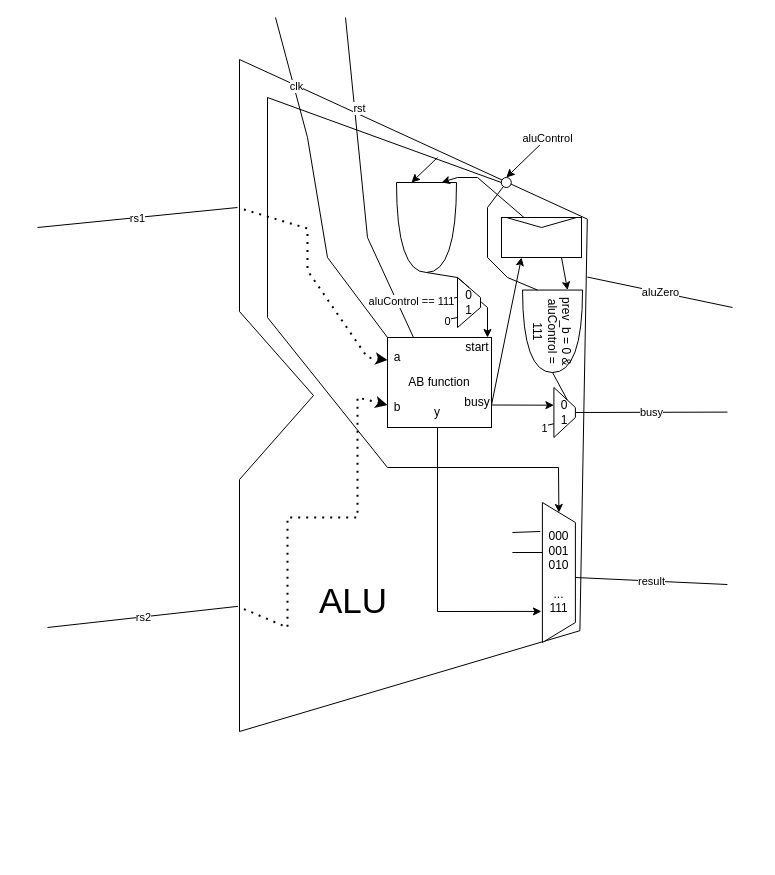
This 775x875 diagram has some shape labels left out. The centre of each missing label's shape, as x and y in pixels:
"prev_busy" belongs at [541,237].
"prev_busy = 1 & aluControl = 111" belongs at [426,227].
